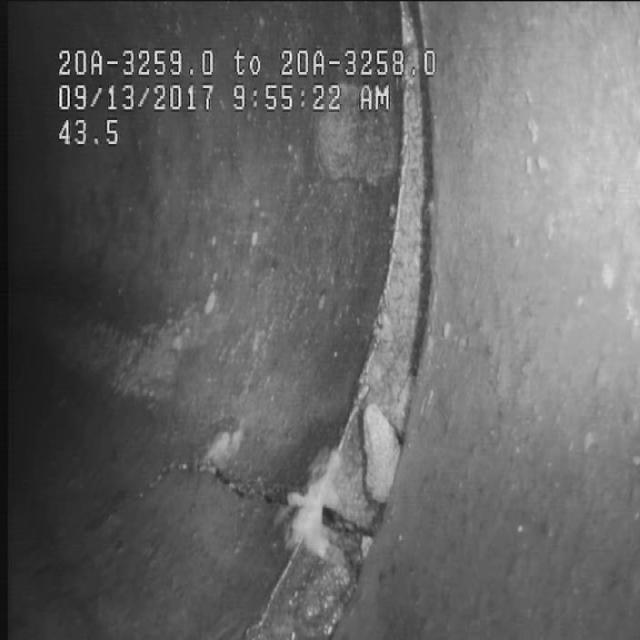Fracture: (146, 366, 360, 584)
